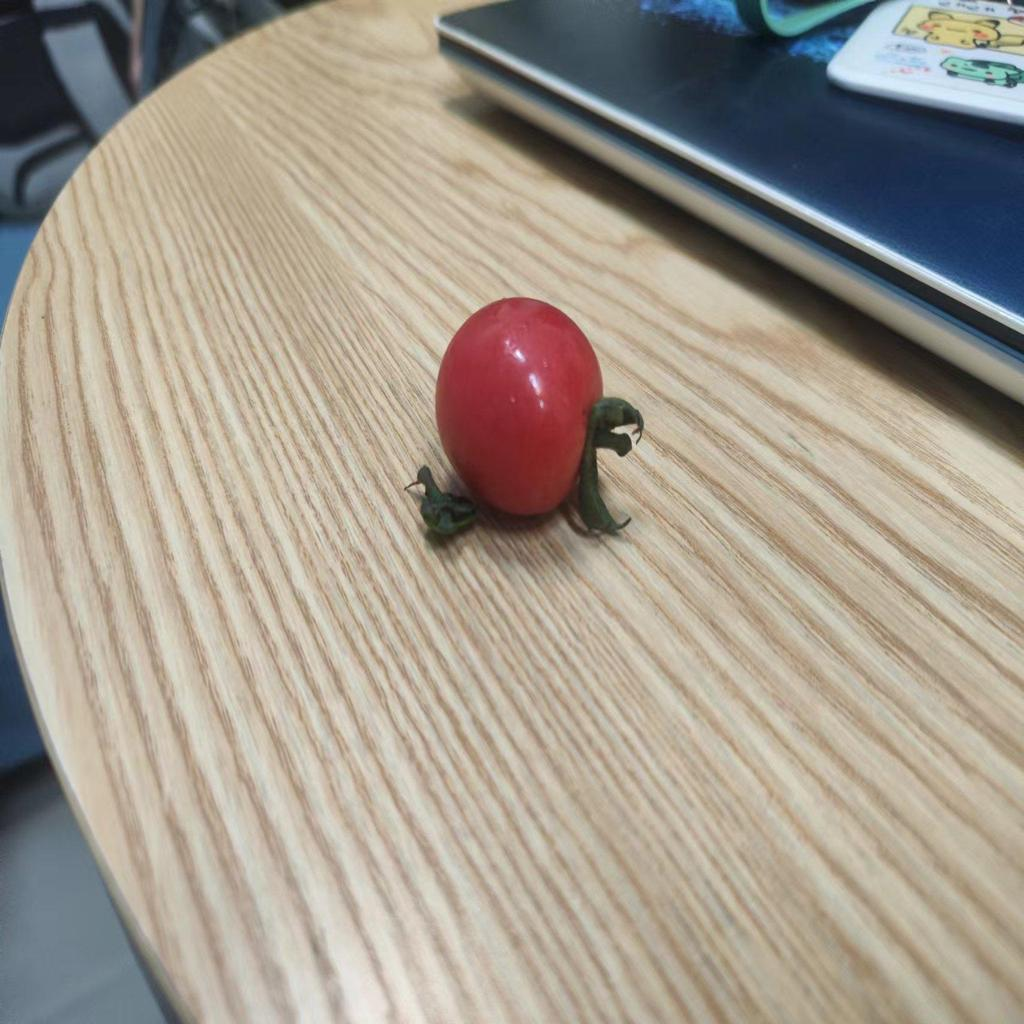tomato: (431, 306, 643, 531)
